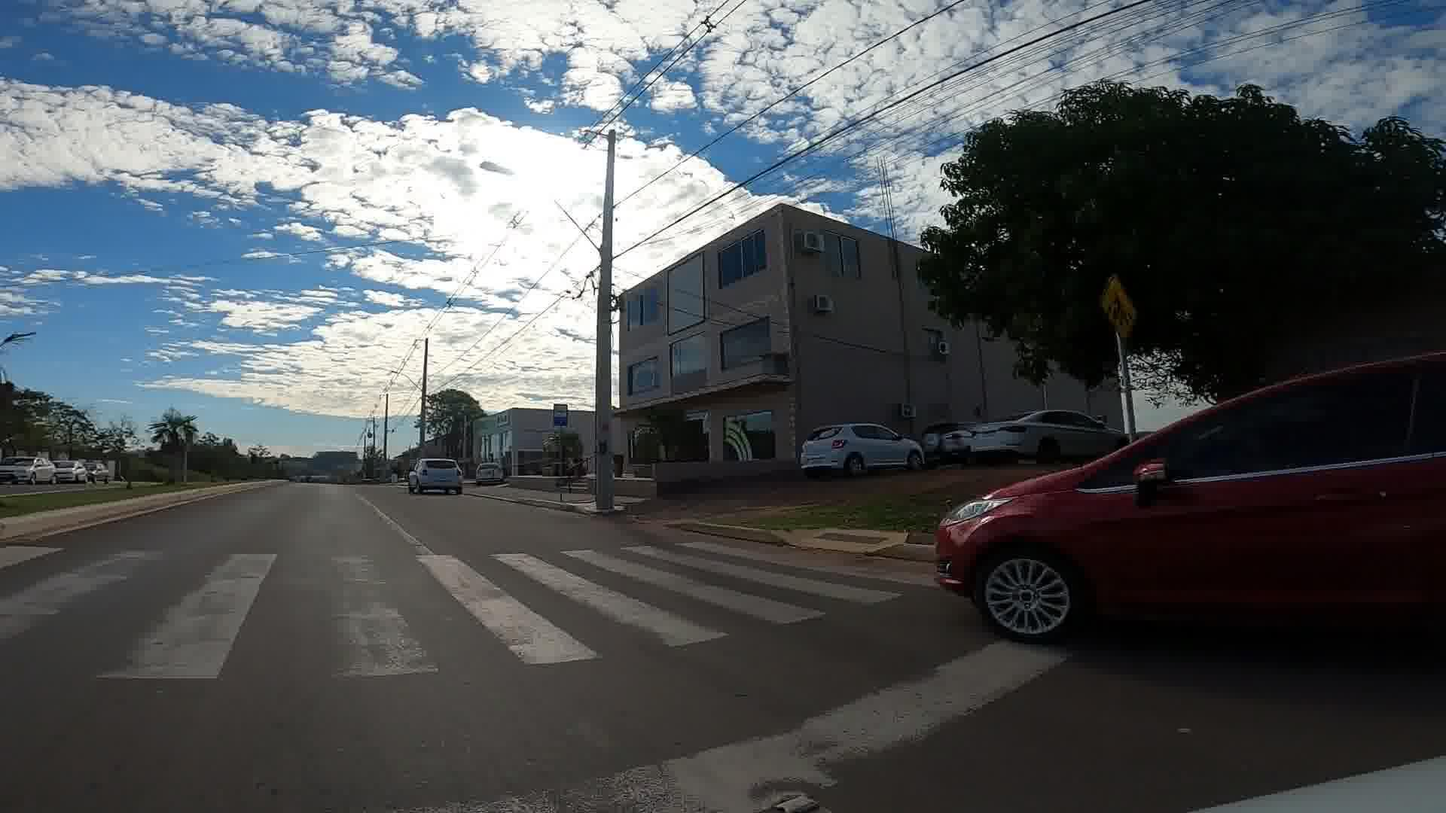A-32b: (1098, 274, 1138, 343)
